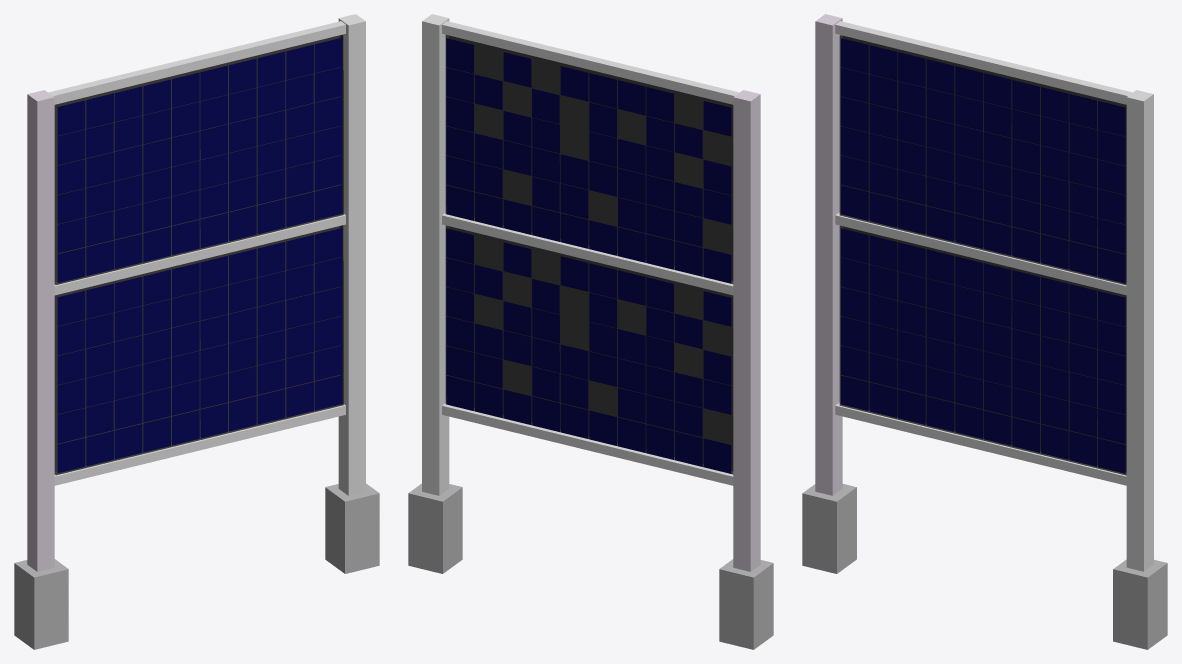
Rendered from sun-panel-vertical.glb.
The picture shows the model from 3 angles, left to right: view 1: azimuth 30°, elevation 25°; view 2: azimuth 150°, elevation 25°; view 3: azimuth 330°, elevation 25°; orthographic projection.
Visible parts, largest first — view 1: 立方体.005; view 2: 立方体.005; view 3: 立方体.005.
Part boxes in pixels (x1,y1,x2,y2): 立方体.005: (14,14,379,649); 立方体.005: (408,14,773,649); 立方体.005: (802,14,1167,649).
Size of the model in its own units: 2 by 3 by 0.2.
